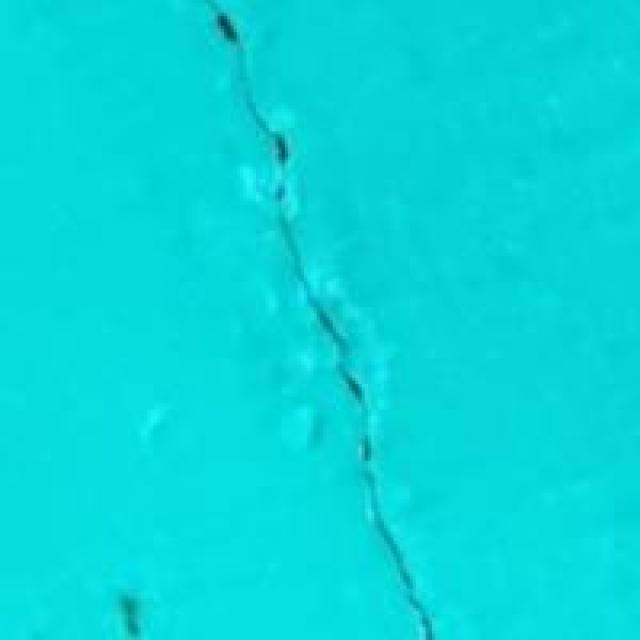crack: (189, 6, 445, 637)
